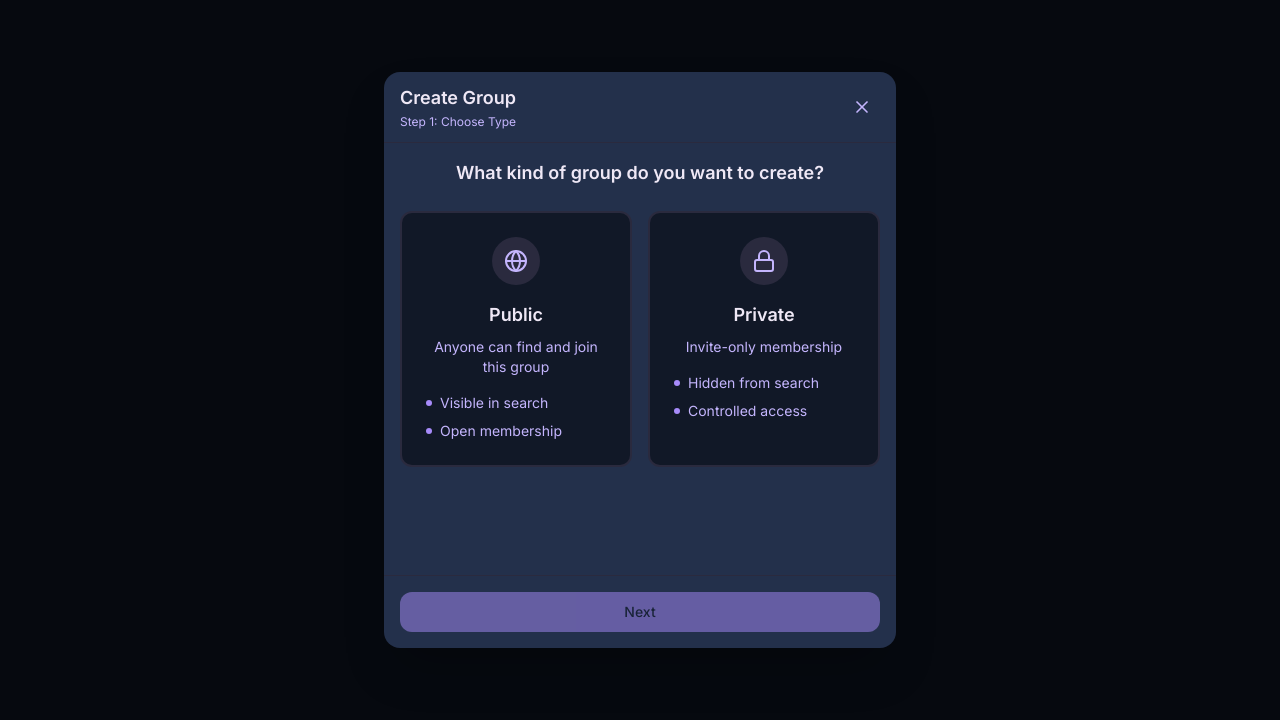
GroupCreationWizard › Flow navigation › shows Step 1 of 2 after selecting Public type
# Click on the Public card
What coordinates should you click on to do the following:
click the option "Public"
I would click on:
 (516, 339)
Its box is [400,211,632,467].
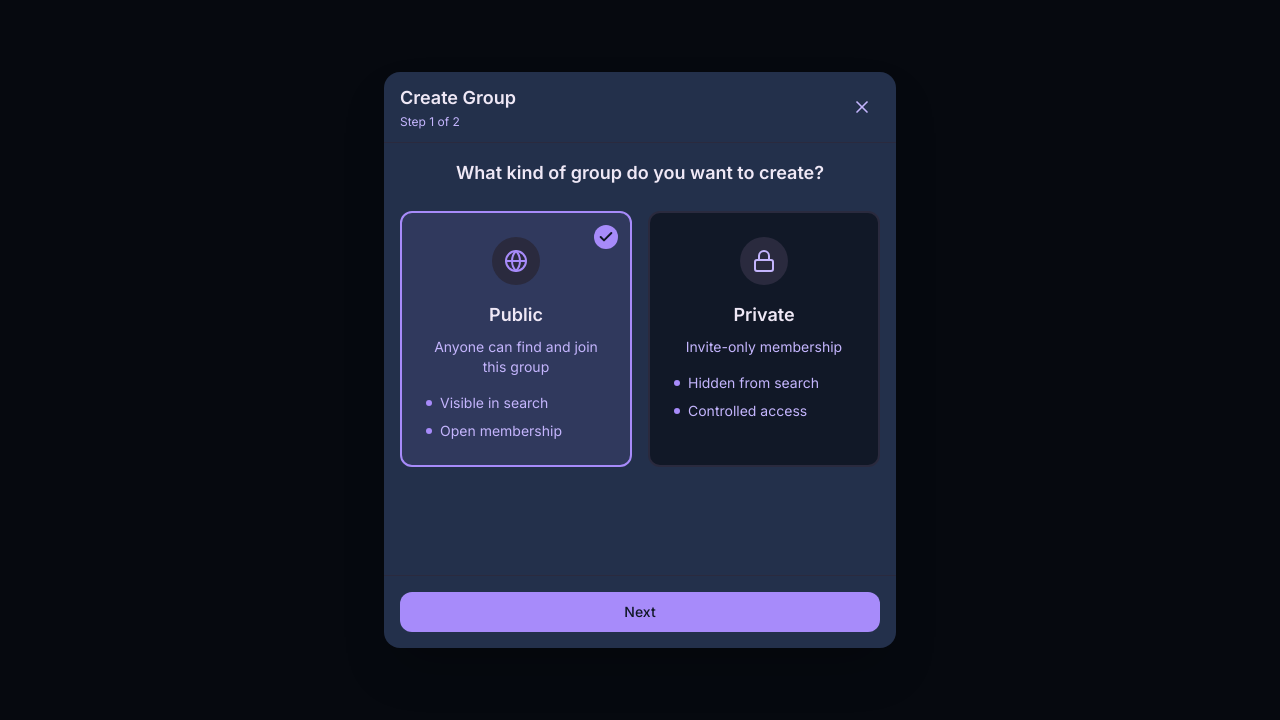
Check: the text "Step 1 of 2" is shown, box [400,114,460,129]
